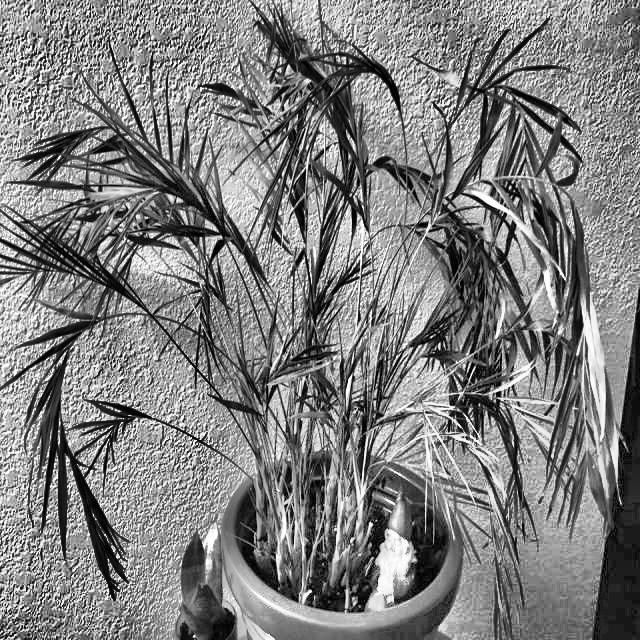plants: (6, 19, 640, 512), (421, 66, 624, 634)
